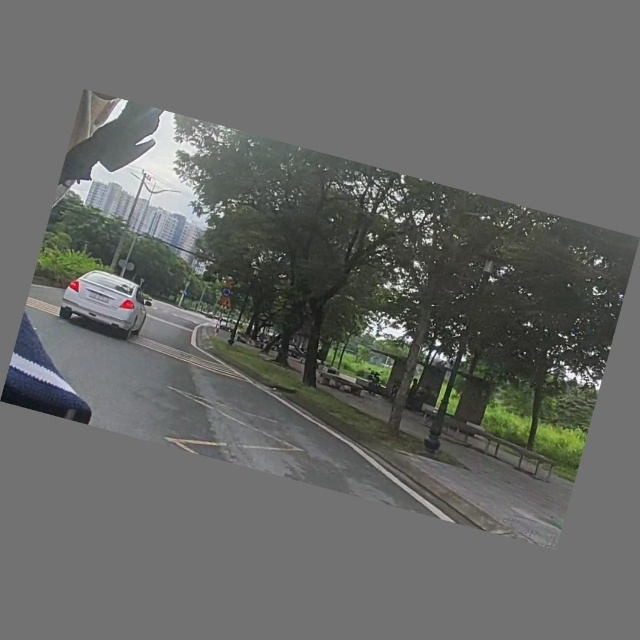P.102: (177, 288, 185, 296)
R.303: (221, 288, 233, 299)
W.207: (222, 297, 235, 309)
